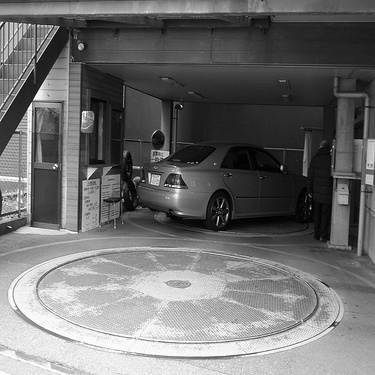car: (126, 139, 320, 233)
